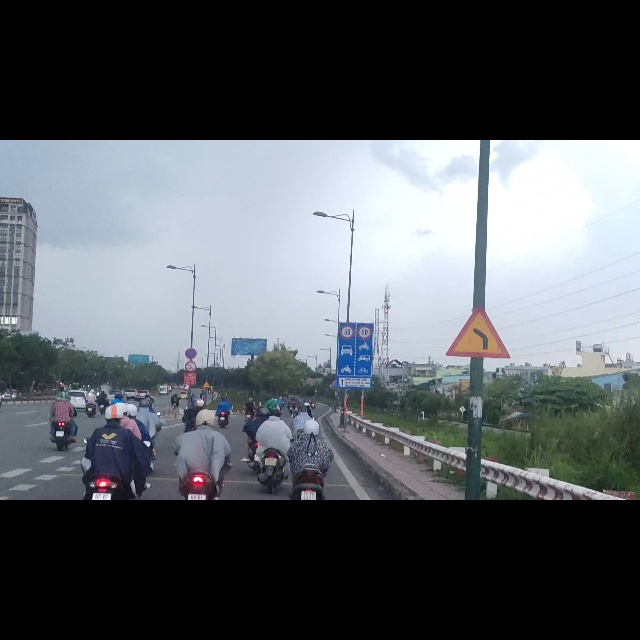bien_chi_dan: (443, 291, 512, 389), (340, 327, 355, 354), (357, 328, 372, 355), (184, 369, 197, 390), (184, 391, 196, 412), (202, 426, 211, 441)
